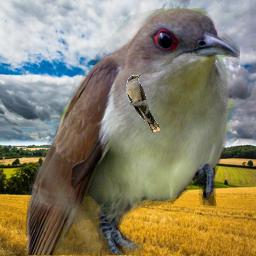Cuckoo: (26, 8, 240, 255), (126, 75, 160, 133)
